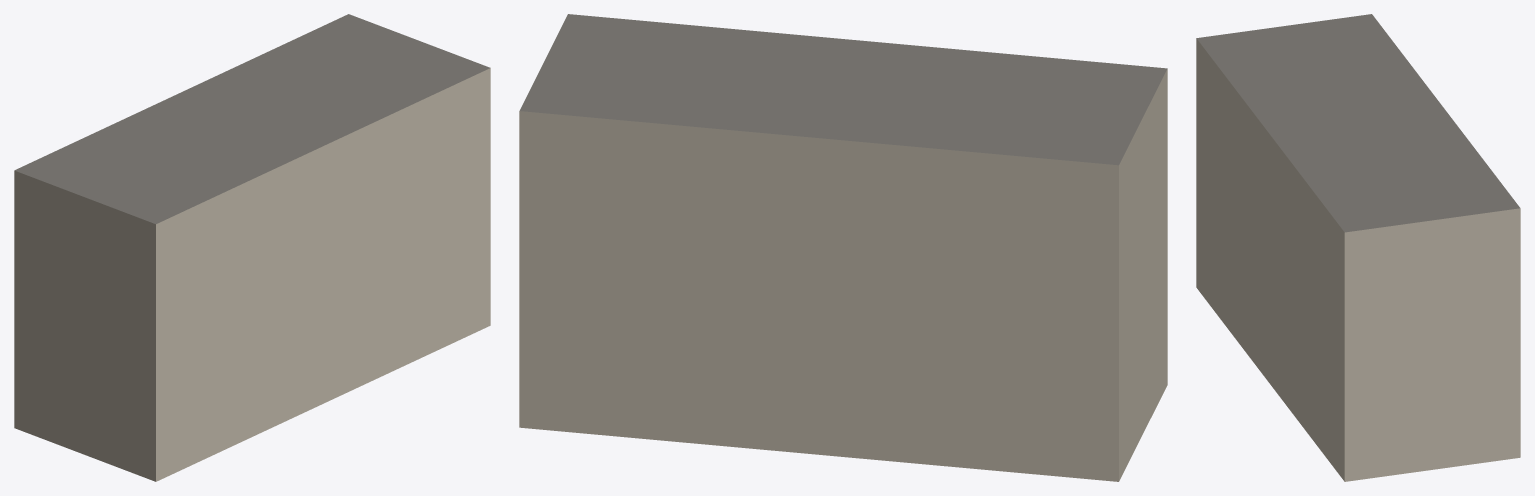
3 renders of one model, left to right at view 1: azimuth 30°, elevation 25°; view 2: azimuth 150°, elevation 25°; view 3: azimuth 270°, elevation 25°, orthographic. The views are drawn at different scales.
Visible parts, largest first — view 1: HP-w372180455; view 2: HP-w372180455; view 3: HP-w372180455.
Part boxes in pixels (<box>): HP-w372180455: <box>14,14,490,481</box>; HP-w372180455: <box>519,14,1167,481</box>; HP-w372180455: <box>1196,14,1520,481</box>.
Bounding box in the file's own units: 28.18 × 15 × 17.66.
